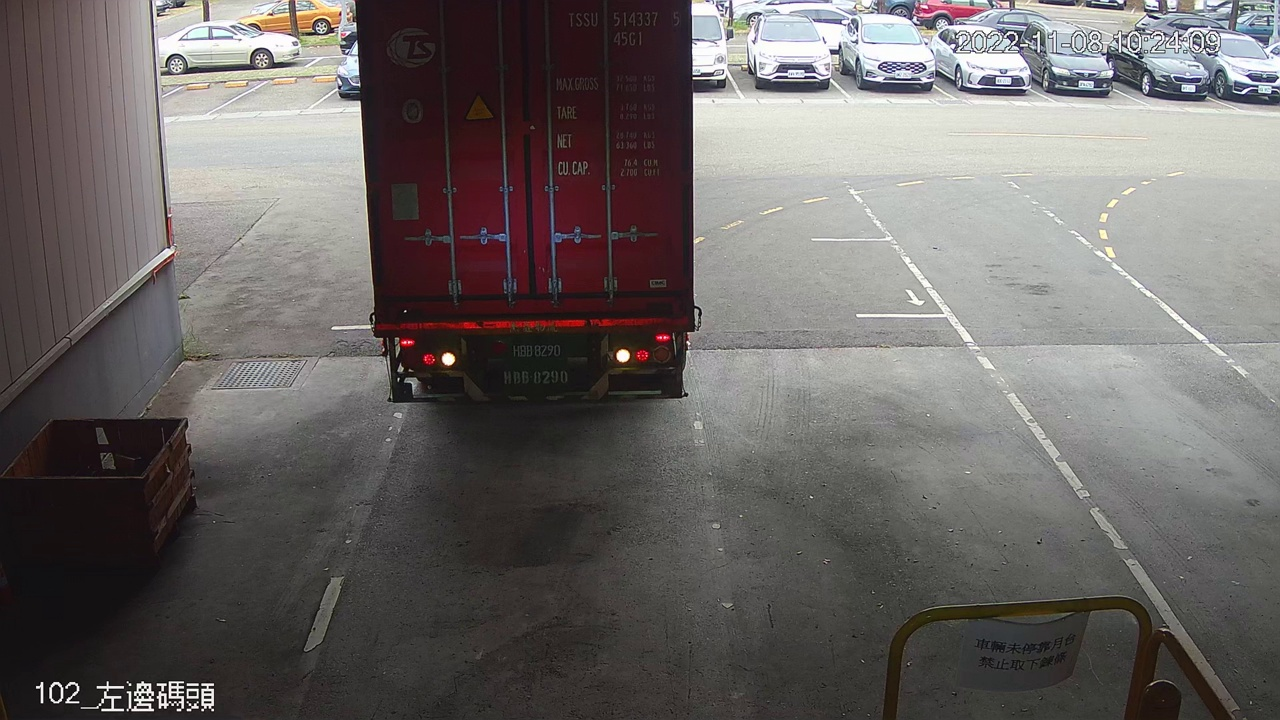container: (562, 3, 686, 51)
